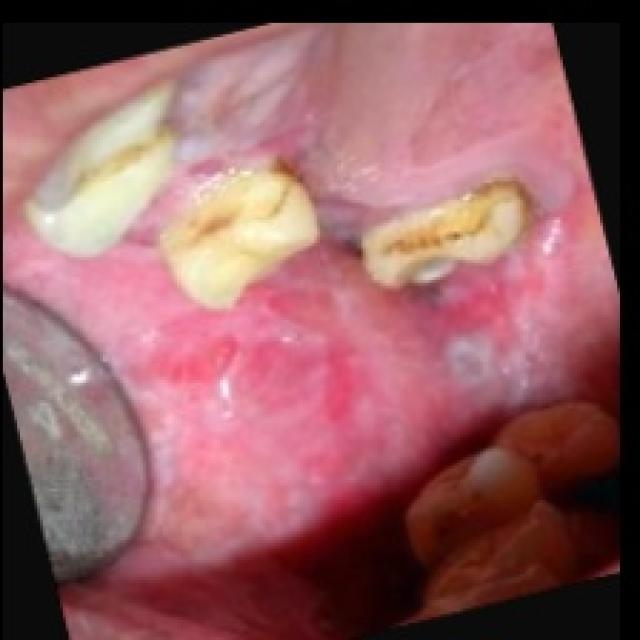leukoplakia-like-detection: (320, 195, 624, 442), (244, 25, 598, 201)
processing_area: (10, 187, 616, 637), (176, 25, 591, 244)
